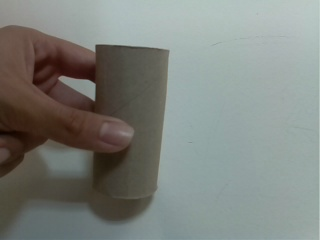rollo papel: (88, 40, 172, 202)
